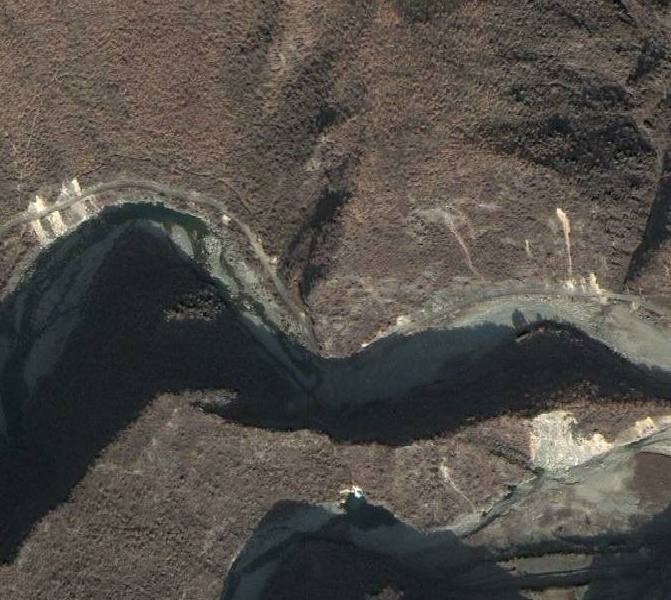slope: (525, 406, 670, 473), (551, 204, 617, 311), (21, 172, 107, 254)
